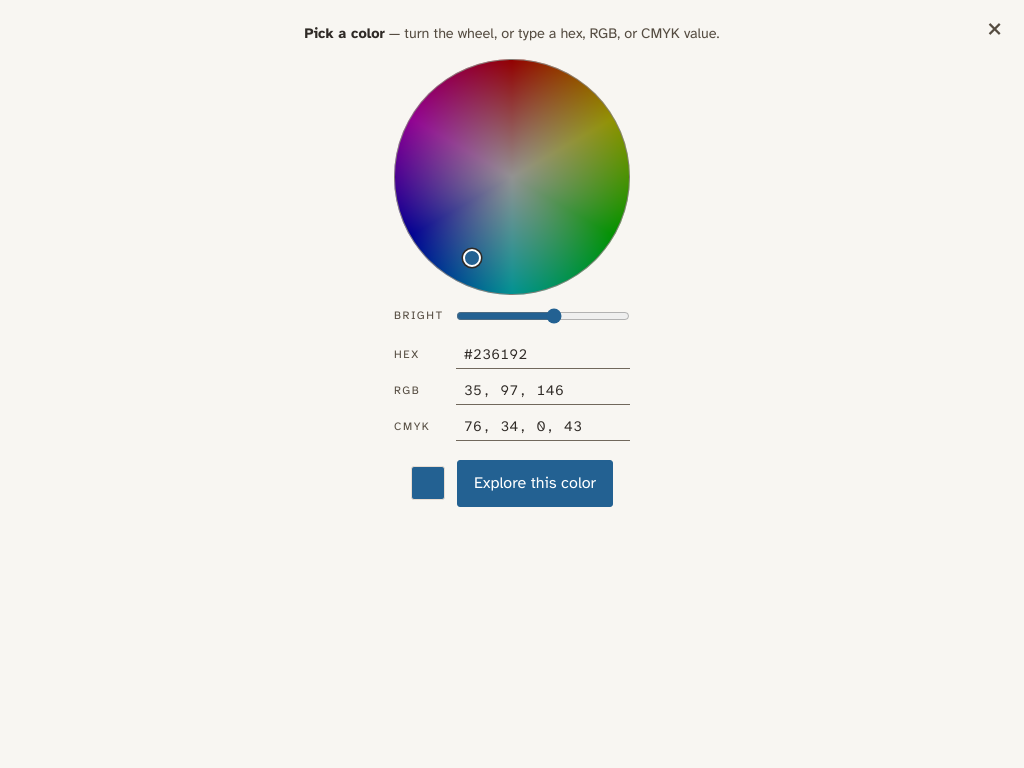
ColorPicker (jsdom) › propagates a typed CMYK to the hex field
The width and height of the screenshot is (1024, 768).
Replace the text in the field labelled "CMYK" with "0, 30, 6, 0": point(543, 427) [456,413,630,441]
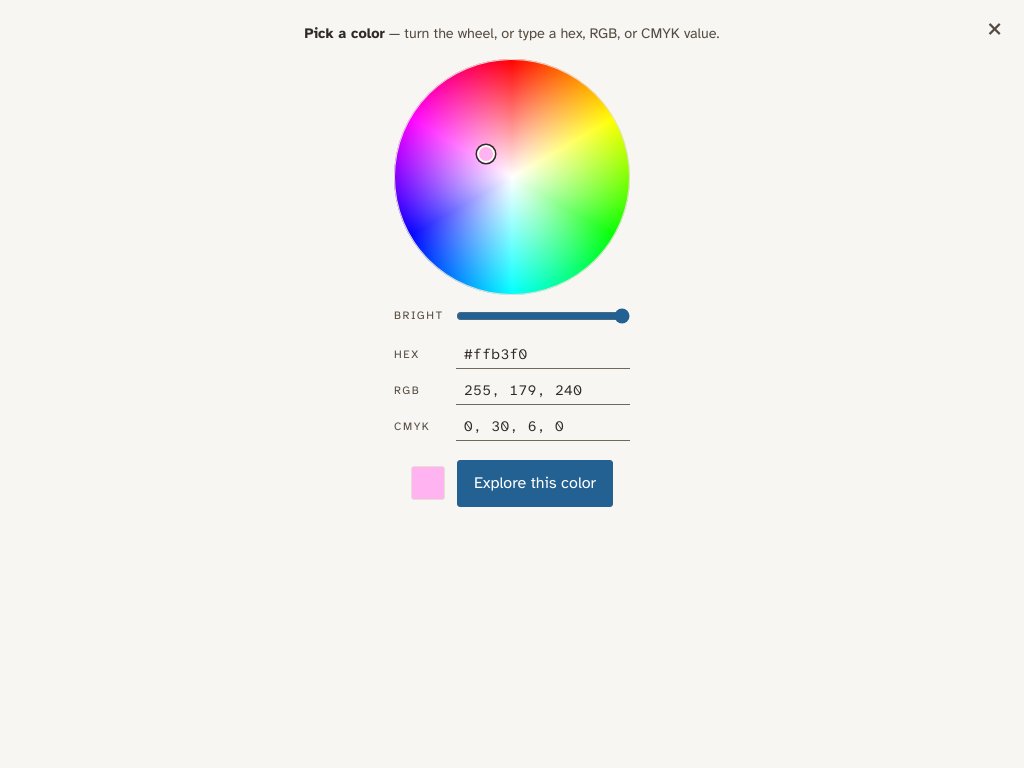
Check: the field labelled "HEX" holds "#ffb3f0", box [456,341,630,369]
